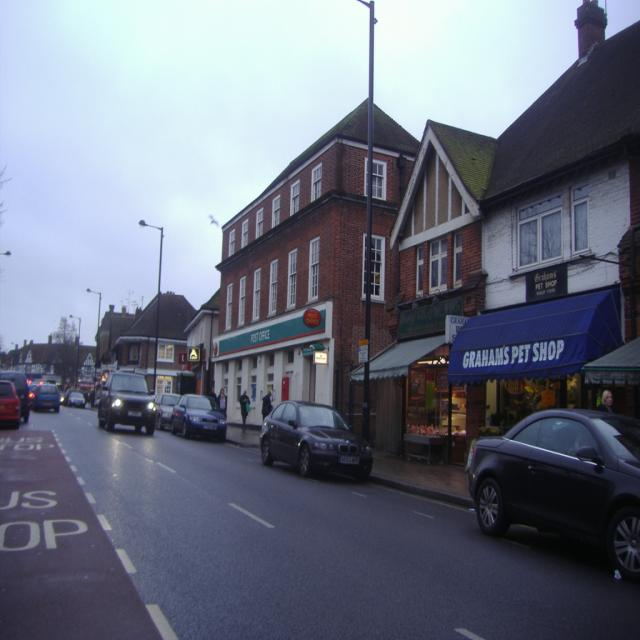car: (259, 399, 373, 478), (97, 372, 154, 430), (170, 395, 226, 439), (33, 381, 59, 410), (67, 390, 84, 406)
